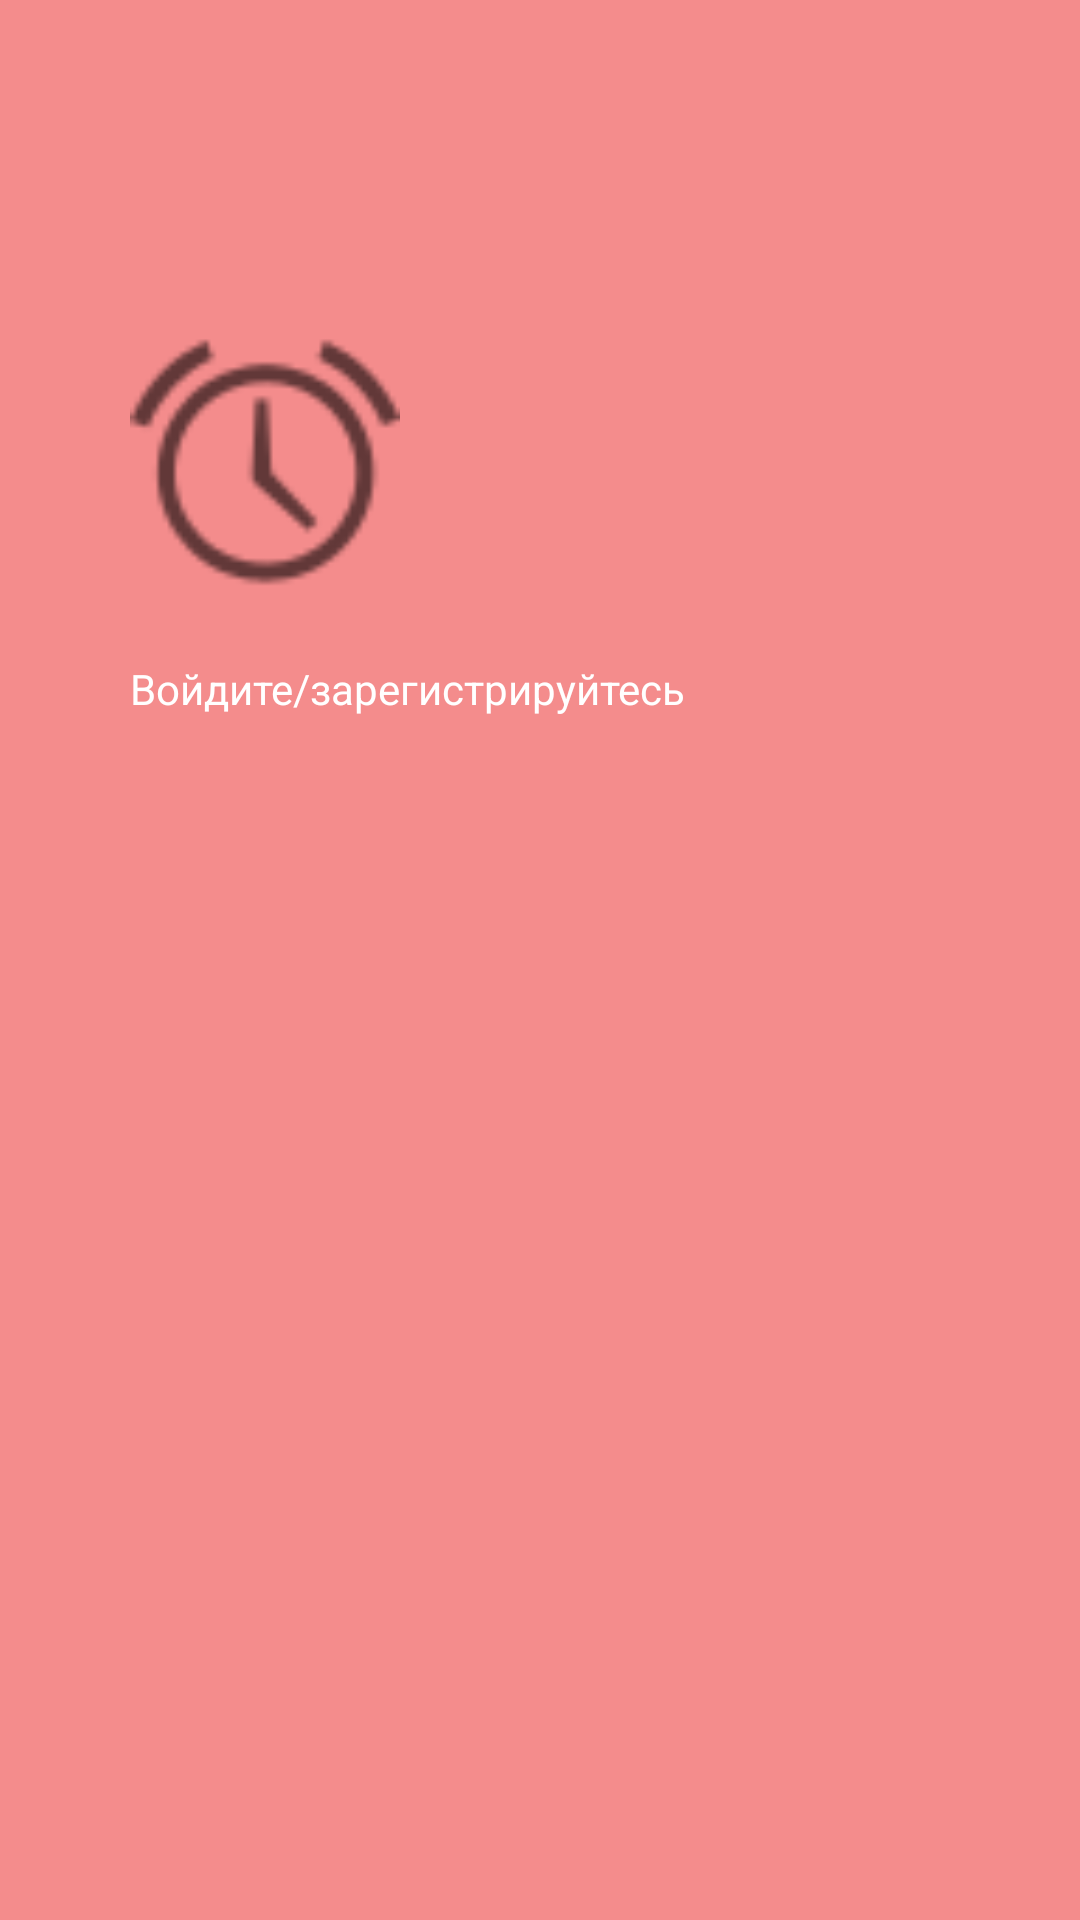

Icons on this 1080 x 1920 Android screen, each with its box as {"left": x1, "top": y1, "right": x2, "bottom": y2}:
lock idle alarm: {"left": 130, "top": 340, "right": 400, "bottom": 584}
